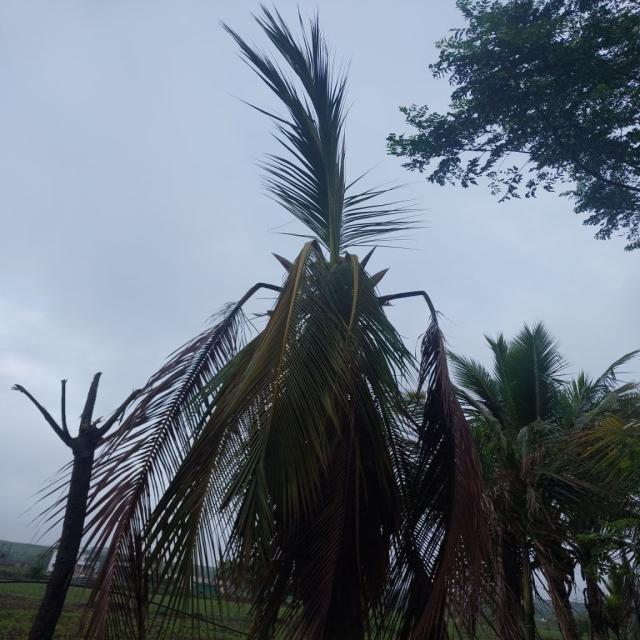bud root dropping: (83, 9, 488, 640)
